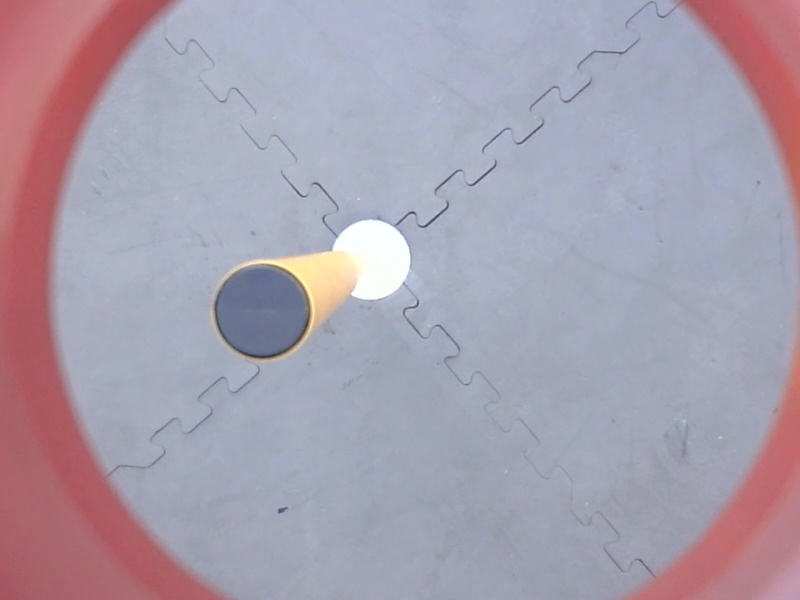tip: (207, 257, 318, 368)
